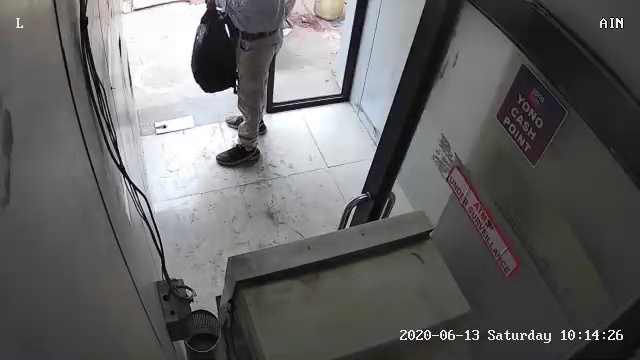open: (109, 3, 363, 137)
